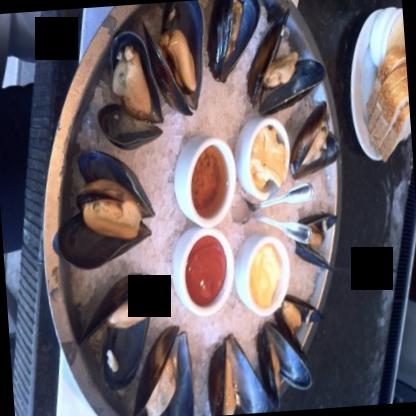mussel: (58, 148, 158, 272), (74, 269, 162, 392), (90, 29, 170, 150), (134, 0, 209, 122), (248, 18, 326, 115), (119, 328, 196, 415), (278, 100, 344, 185), (204, 335, 269, 415), (256, 320, 312, 402)
